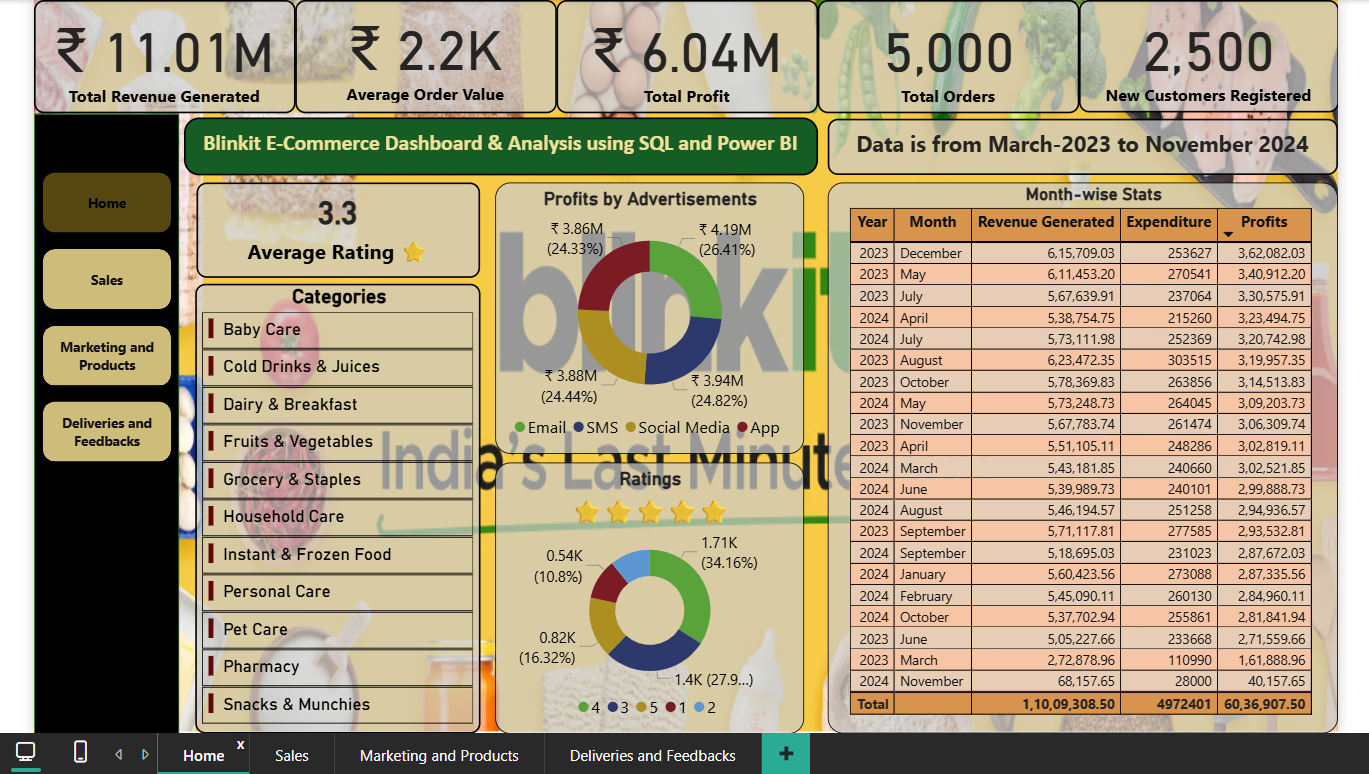

Layout of this report page (visuals, bound fields, positions):
{"tool":"powerbi","page":{"name":"Home ","canvas":[1280,720],"ordinal":0},"visuals":[{"type":"shape","box":[0,111.1,142.7,609.3],"z":0},{"type":"card","fields":{"Values":["Sum(blinkit_project_files blinkit_orders.order_total)"]},"box":[0,0,256.6,111.1],"z":1000},{"type":"card","fields":{"Values":["Avg(blinkit_project_files blinkit_orders.order_total)"]},"box":[256.6,0,256.6,111.1],"z":2000},{"type":"card","fields":{"Values":["blinkit_project_files area_to_state1.Total_profit"]},"box":[513.2,0,256.6,111.1],"z":3000},{"type":"card","fields":{"Values":["CountNonNull(blinkit_project_files blinkit_delivery_performance.order_id)"]},"box":[769.8,0,256.6,111.1],"z":4000},{"type":"card","fields":{"Values":["CountNonNull(blinkit_project_files blinkit_customers.customer_id)"]},"box":[1025.8,0,255.2,110.4],"z":5000},{"type":"textbox","box":[779.1,116.6,500.6,55.2],"z":6000},{"type":"pageNavigator","box":[8.6,169.3,126.4,287.1],"z":7000},{"type":"multiRowCard","title":"Categories ","fields":{"Values":["blinkit_project_files blinkit_products.category"]},"box":[158.3,278.5,279.8,441.7],"z":8000},{"type":"donutChart","title":"Profits by Advertisements","fields":{"Category":["blinkit_project_files blinkit_marketing_performance.channel"],"Y":["Sum(blinkit_project_files blinkit_marketing_performance.Profit_by_adv)"]},"box":[453,179.1,303.1,266.3],"z":9000},{"type":"card","fields":{"Values":["Avg(blinkit_project_files blinkit_customer_feedback.rating)"]},"box":[159.5,179.1,278.5,93.3],"z":10000},{"type":"donutChart","title":"Ratings ","fields":{"Y":["CountNonNull(blinkit_project_files blinkit_customer_feedback.customer_id)"],"Category":["blinkit_project_files blinkit_customer_feedback.rating"]},"box":[452.8,454,303.1,266.3],"z":11000},{"type":"tableEx","title":"Month-wise Stats","fields":{"Values":["Date_Table_DDMMYYYY_Format.Date.Variation.Date Hierarchy.Year","Date_Table_DDMMYYYY_Format.Date.Variation.Date Hierarchy.Month","Sum(blinkit_project_files blinkit_orders.order_total)","Sum(blinkit_project_files blinkit_order_items.Product_order_cost)","blinkit_project_files blinkit_orders.Sum of order_total minus Sum of Product_order_cost"]},"box":[779.1,179.1,500.6,541.1],"z":12000},{"type":"textbox","box":[147.2,115.3,622.1,56.4],"z":13000}]}

Visuals, with their boxes in screenshot pixels (x1, y1, x2, y2):
shape: bbox=(29, 109, 174, 729)
card - Sum(blinkit_project_files blinkit_orders.order_total): bbox=(29, 0, 290, 109)
card - Avg(blinkit_project_files blinkit_orders.order_total): bbox=(290, 0, 551, 109)
card - blinkit_project_files area_to_state1.Total_profit: bbox=(551, 0, 812, 109)
card - CountNonNull(blinkit_project_files blinkit_delivery_performance.order_id): bbox=(812, 0, 1073, 109)
card - CountNonNull(blinkit_project_files blinkit_customers.customer_id): bbox=(1072, 0, 1332, 109)
textbox: bbox=(821, 115, 1330, 171)
pageNavigator: bbox=(37, 169, 166, 461)
"Categories " multiRowCard: bbox=(190, 280, 474, 729)
"Profits by Advertisements" donutChart: bbox=(489, 179, 798, 450)
card - Avg(blinkit_project_files blinkit_customer_feedback.rating): bbox=(191, 179, 474, 274)
"Ratings " donutChart: bbox=(489, 458, 798, 729)
"Month-wise Stats" tableEx: bbox=(821, 179, 1330, 729)
textbox: bbox=(178, 114, 811, 171)
